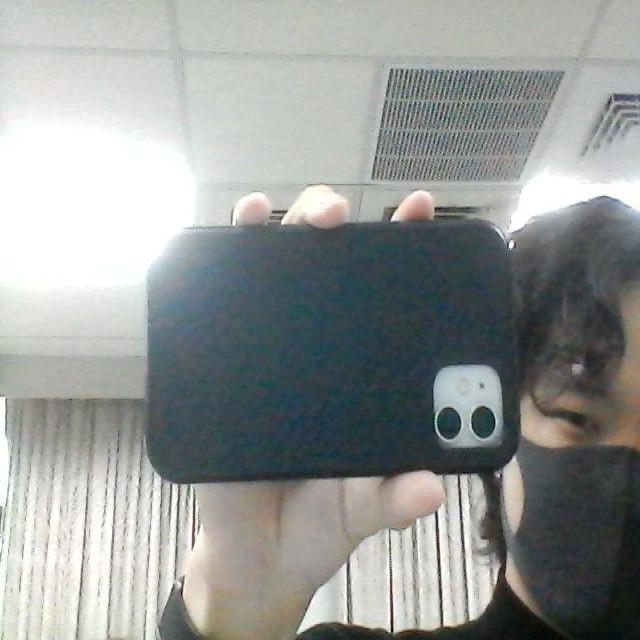mobile: (140, 202, 525, 509)
